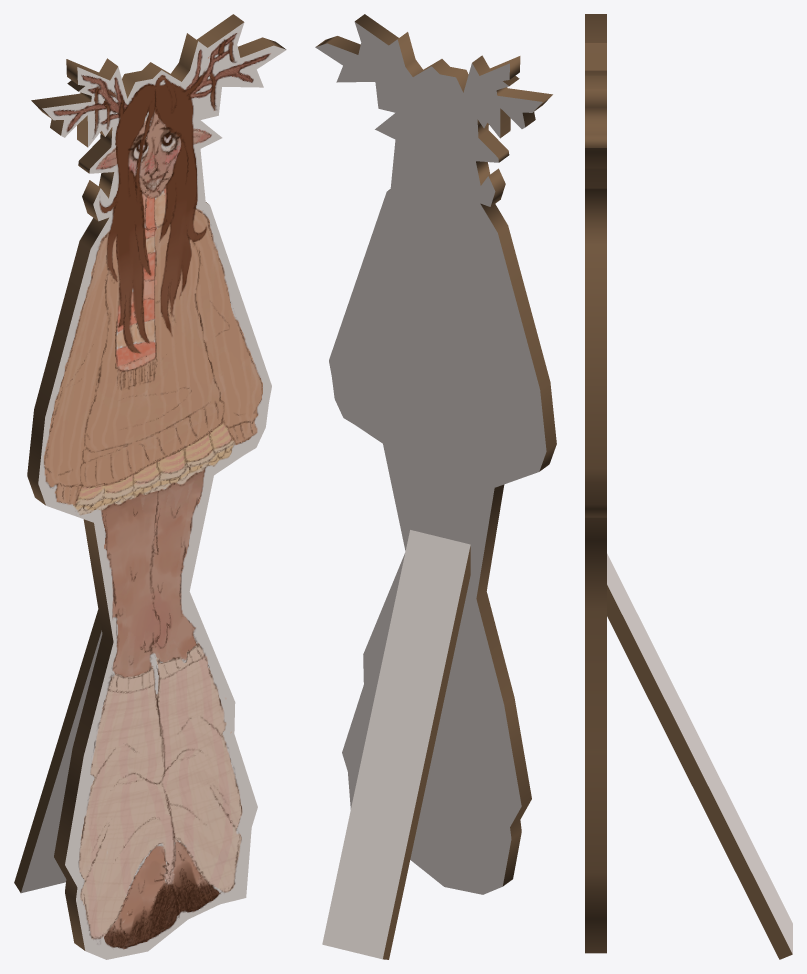
The model's file is Gullan_Happy.fbx.
The picture shows the model from 3 angles, left to right: view 1: azimuth 30°, elevation 25°; view 2: azimuth 150°, elevation 25°; view 3: azimuth 270°, elevation 25°; orthographic projection. The views are drawn at different scales.
Parts seen in each view (by area): view 1: Gullan_Happy; view 2: Gullan_Happy; view 3: Gullan_Happy.
Boxes of the visible parts, <box> form: Gullan_Happy: <box>14,14,286,959</box>; Gullan_Happy: <box>315,14,556,959</box>; Gullan_Happy: <box>585,14,792,959</box>.
Bounding box in the file's own units: 53.17 × 187 × 39.1.
1 material, 1 textured.
